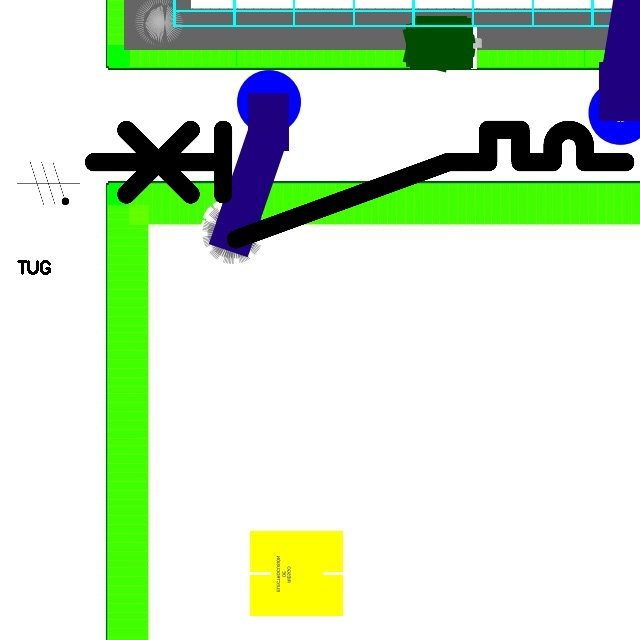interruptor_termomagnetico: (80, 116, 638, 252)
